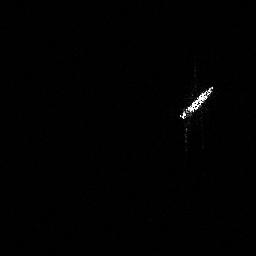ship: (176, 81, 217, 123)
